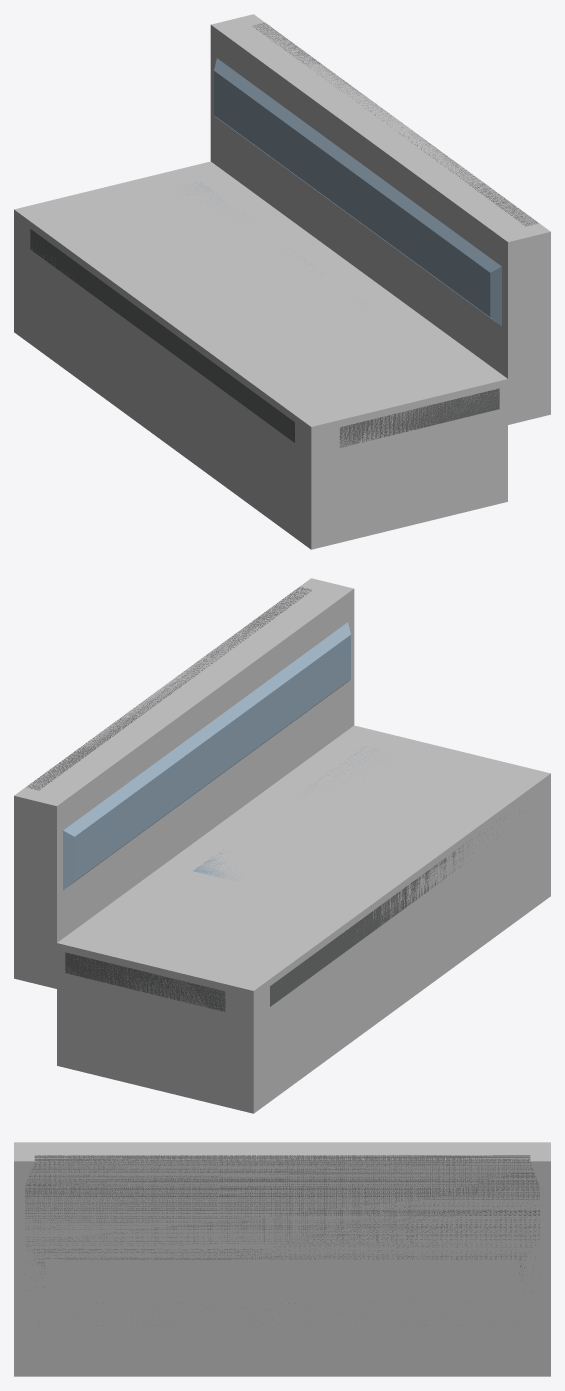
File: SM_Bench_06.fbx
3 renders of one model, top to bottom at view 1: azimuth 30°, elevation 25°; view 2: azimuth 150°, elevation 25°; view 3: azimuth 270°, elevation 25°, orthographic. The views are drawn at different scales.
Visible parts, largest first — view 1: SM_Bench_06_ConvexHulls, SM_Bench_06; view 2: SM_Bench_06_ConvexHulls, SM_Bench_06; view 3: SM_Bench_06_ConvexHulls, SM_Bench_06.
Part boxes in pixels (<box>): SM_Bench_06_ConvexHulls: <box>14,14,550,549</box>; SM_Bench_06: <box>30,22,538,447</box>; SM_Bench_06_ConvexHulls: <box>14,578,550,1113</box>; SM_Bench_06: <box>26,586,505,1011</box>; SM_Bench_06_ConvexHulls: <box>14,1142,550,1376</box>; SM_Bench_06: <box>25,1155,539,1325</box>.
Size of the model in its own units: 132 by 284 by 137.
2 materials, 1 textured.
